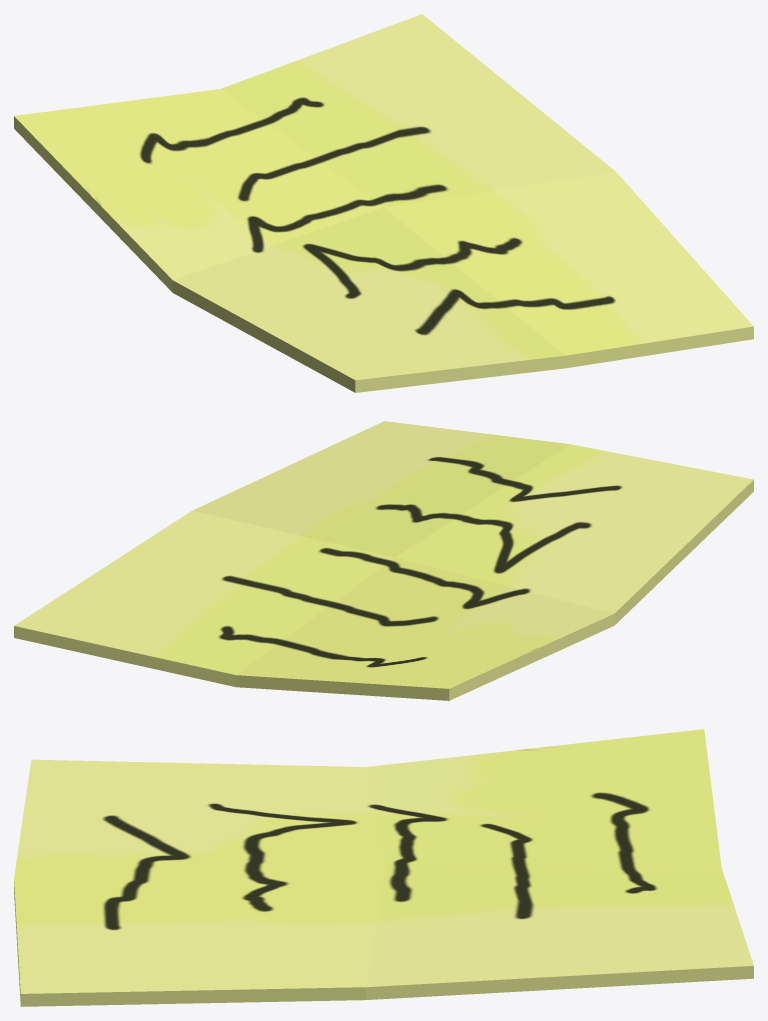
Rendered from nota.fbx.
The picture shows the model from 3 angles, top to bottom: view 1: azimuth 30°, elevation 25°; view 2: azimuth 150°, elevation 25°; view 3: azimuth 270°, elevation 25°; orthographic projection. The views are drawn at different scales.
Visible parts, largest first — view 1: Plane; view 2: Plane; view 3: Plane.
Boxes of the visible parts, x1,y1,x2,y2 form: Plane: [14, 14, 753, 392]; Plane: [14, 421, 753, 700]; Plane: [14, 729, 753, 1006].
Bounding box in the file's own units: 147 × 23.95 × 208.
Materials: 1 (1 with a texture image).
